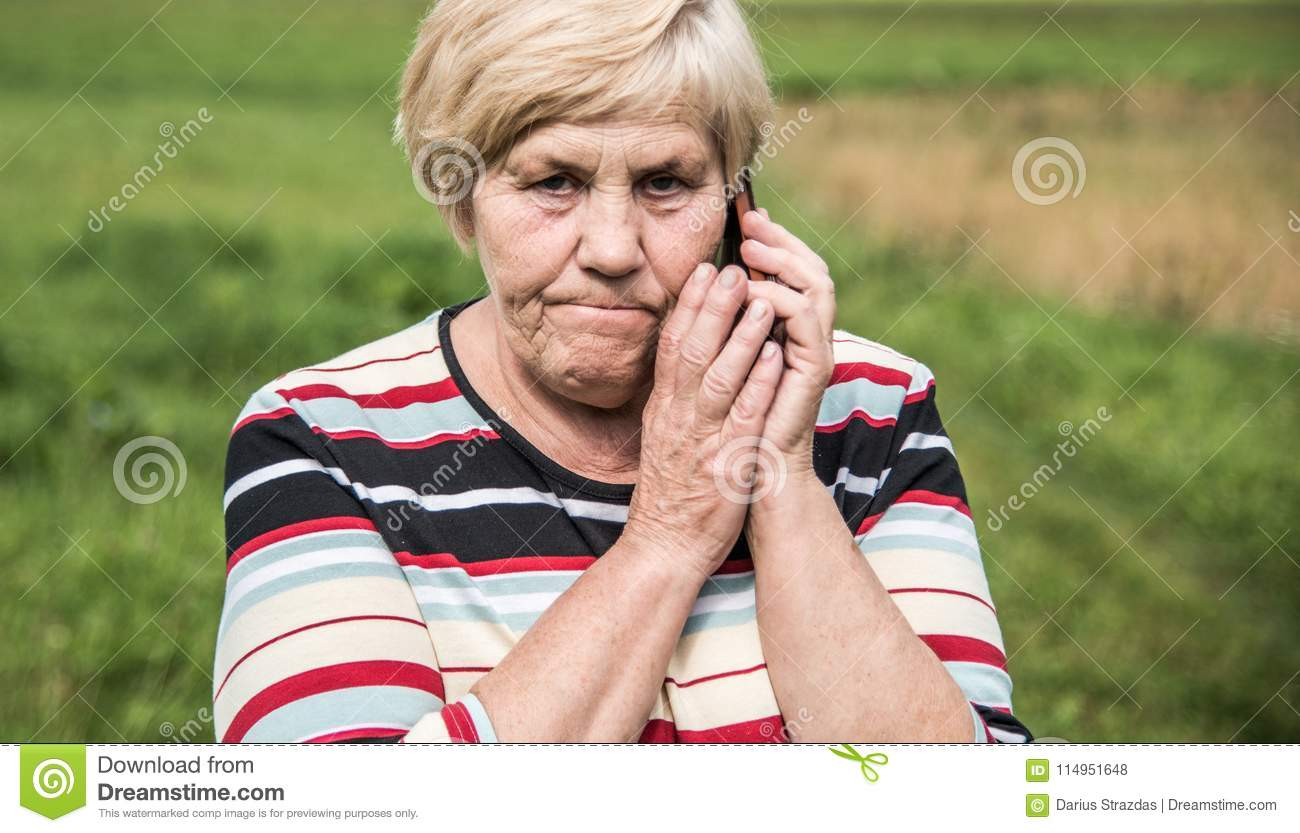phone: (707, 136, 792, 335)
talk: (496, 137, 844, 448)
